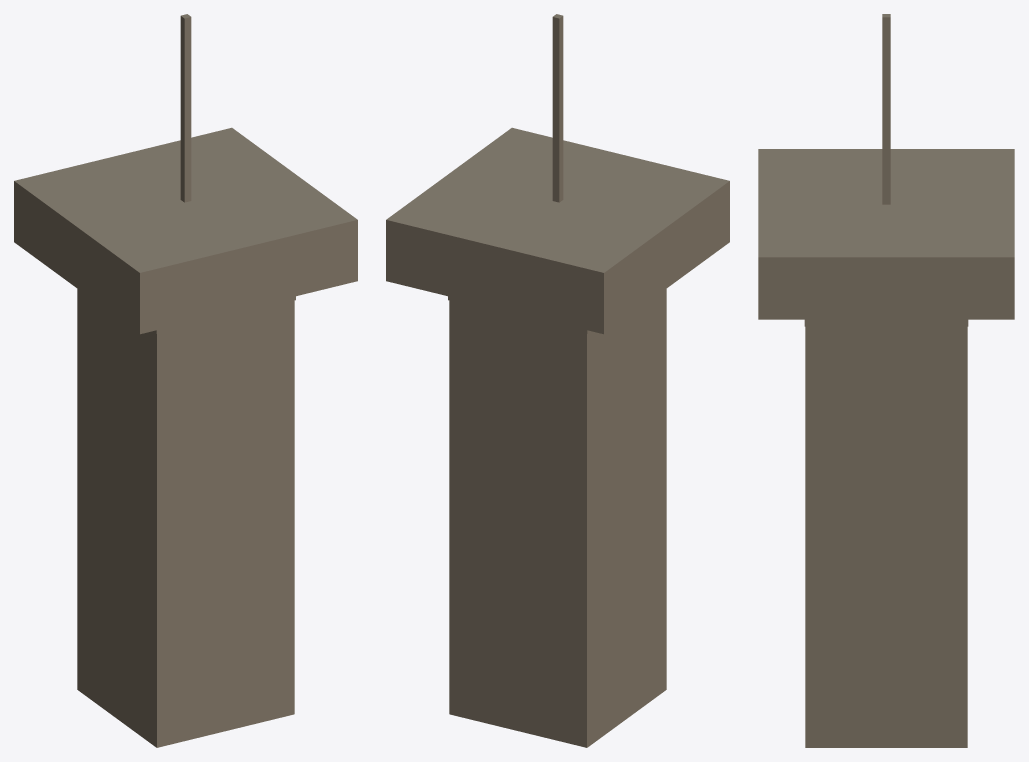
File: bw-tower.far-facades-v3.lod2.glb
3 views of the same model, side by side, from view 1: azimuth 30°, elevation 25°; view 2: azimuth 150°, elevation 25°; view 3: azimuth 270°, elevation 25° (orthographic).
Visible parts, largest first — view 1: bw-tower; view 2: bw-tower; view 3: bw-tower.
Part boxes in pixels (left/top/right/bottom): bw-tower: left=14, top=14, right=357, bottom=747; bw-tower: left=386, top=14, right=729, bottom=747; bw-tower: left=758, top=14, right=1014, bottom=747.
Bounding box in the file's own units: 15.8 × 47.5 × 15.8.
